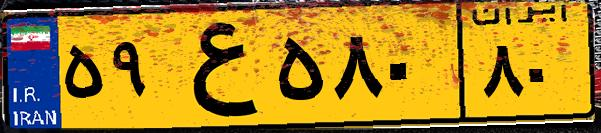0: (385, 28, 445, 110), (525, 38, 570, 115)
5: (270, 28, 330, 110), (57, 26, 110, 100)
8: (330, 28, 385, 110), (475, 38, 525, 113)
9: (110, 28, 158, 98)
ع: (158, 12, 270, 120)
